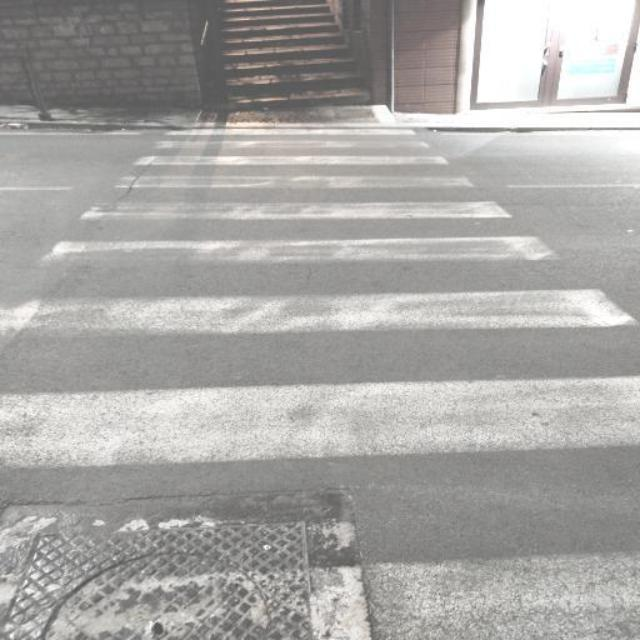sidewalk: (5, 126, 637, 634)
